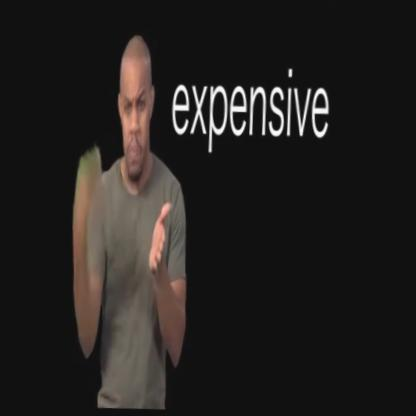Expensive: (63, 140, 176, 320)
